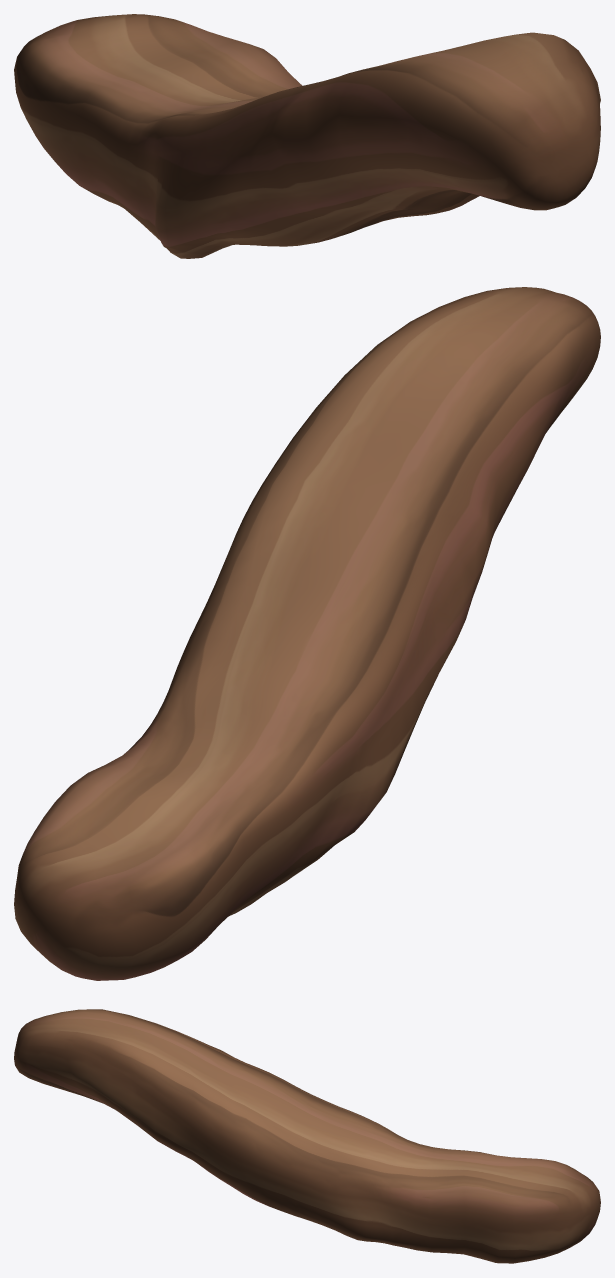
File: AngelStraightRamp.fbx
3 renders of one model, top to bottom at view 1: azimuth 30°, elevation 25°; view 2: azimuth 150°, elevation 25°; view 3: azimuth 270°, elevation 25°, orthographic. The views are drawn at different scales.
Visible parts, largest first — view 1: AngelStraightRamp; view 2: AngelStraightRamp; view 3: AngelStraightRamp.
Part boxes in pixels (bbox=[...]): AngelStraightRamp: bbox=[14, 14, 600, 258]; AngelStraightRamp: bbox=[14, 287, 600, 980]; AngelStraightRamp: bbox=[14, 1009, 600, 1263].
Bounding box in the file's own units: 129 × 203 × 469.
Materials: 1 (1 with a texture image).
